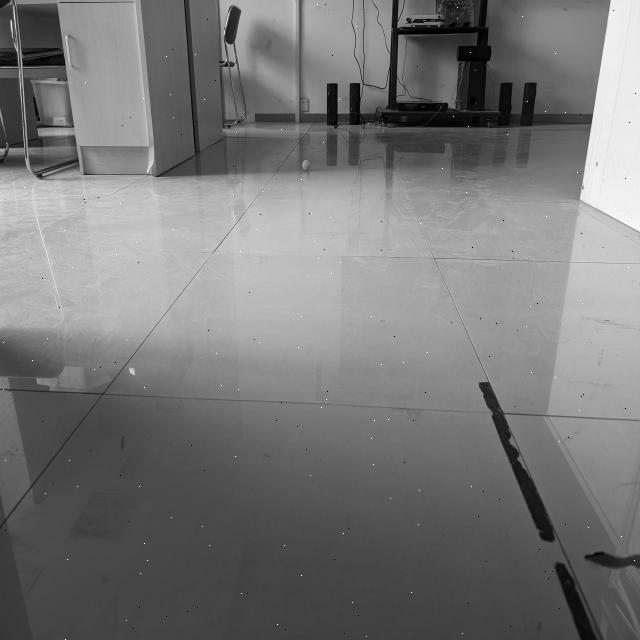ping-pong-ball: (302, 160, 310, 171)
